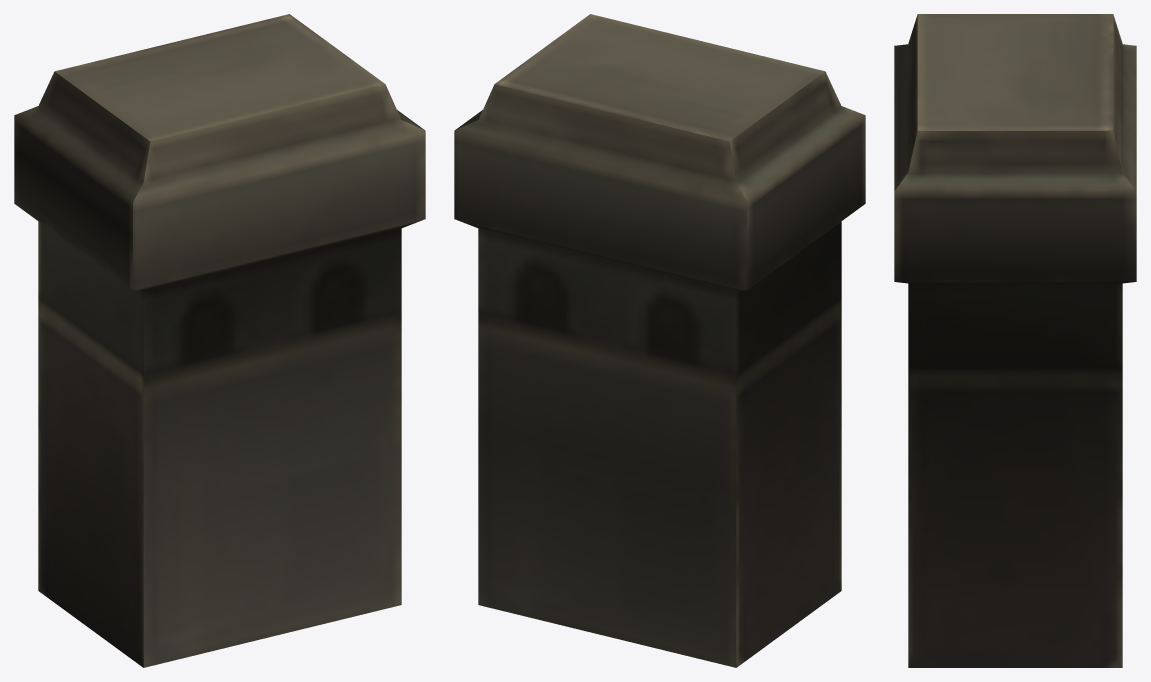
File: Battle04_Cube_16.FBX
The picture shows the model from 3 angles, left to right: view 1: azimuth 30°, elevation 25°; view 2: azimuth 150°, elevation 25°; view 3: azimuth 270°, elevation 25°; orthographic projection. The views are drawn at different scales.
Parts seen in each view (by area): view 1: Battle04_Cube_16; view 2: Battle04_Cube_16; view 3: Battle04_Cube_16.
Boxes of the visible parts, bbox=[...] form: Battle04_Cube_16: bbox=[14, 14, 425, 667]; Battle04_Cube_16: bbox=[454, 14, 865, 667]; Battle04_Cube_16: bbox=[894, 14, 1136, 667].
Bounding box in the file's own units: 3.4 × 5.77 × 2.39.
